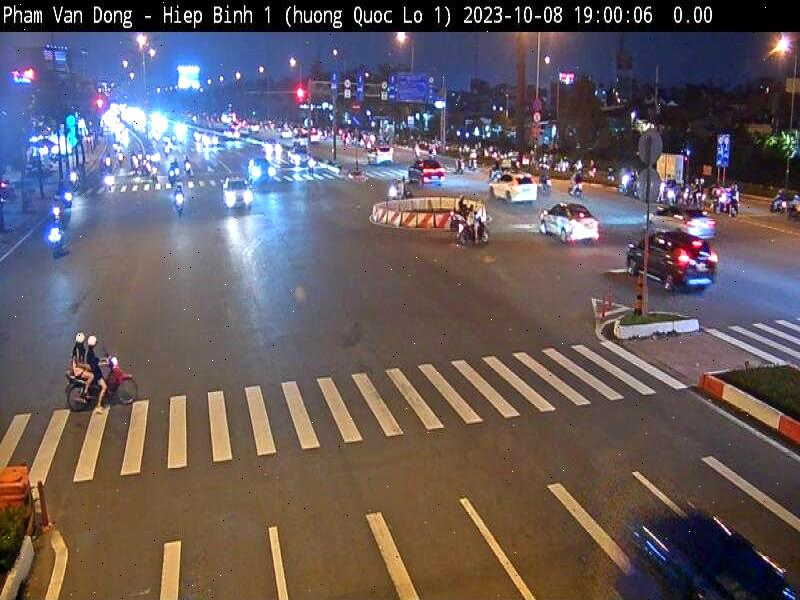car: (631, 218, 724, 304), (538, 200, 624, 255), (648, 197, 719, 252), (481, 162, 540, 215), (403, 158, 453, 195), (222, 175, 252, 205)
motorcycle: (34, 352, 150, 424)
